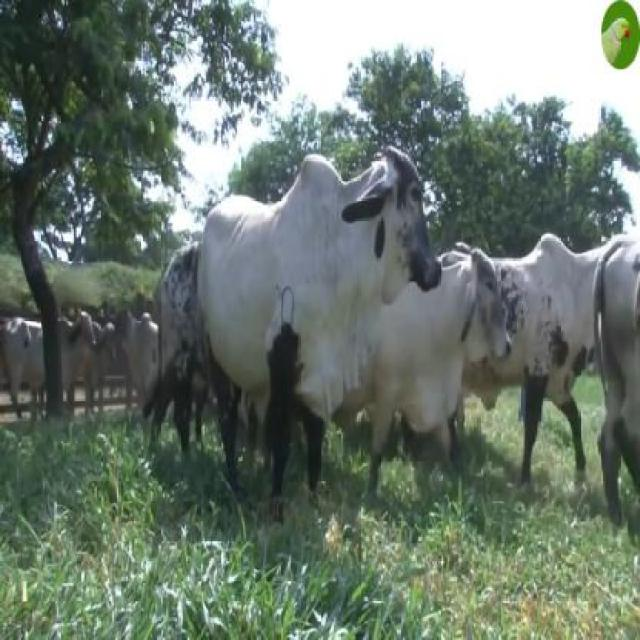Cow: (195, 146, 440, 528)
